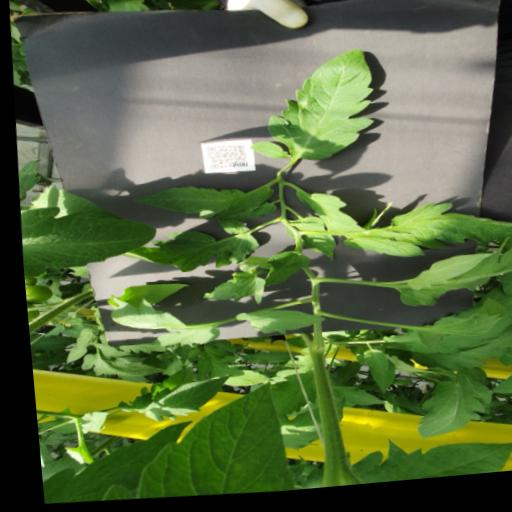Healthy: (84, 377, 288, 508), (240, 51, 378, 172), (30, 416, 190, 508), (334, 200, 512, 273), (15, 198, 156, 283), (338, 435, 512, 491), (389, 240, 512, 319), (115, 216, 258, 282), (124, 181, 272, 232), (102, 291, 216, 355), (108, 374, 227, 429), (404, 372, 486, 449), (409, 317, 503, 358), (289, 192, 361, 243), (228, 309, 321, 344), (276, 219, 334, 271), (189, 354, 264, 394), (74, 350, 161, 383), (194, 273, 261, 309), (257, 253, 306, 292), (325, 388, 380, 414), (237, 352, 294, 372), (481, 376, 512, 404), (355, 354, 382, 383), (67, 328, 88, 353), (57, 345, 82, 365)
